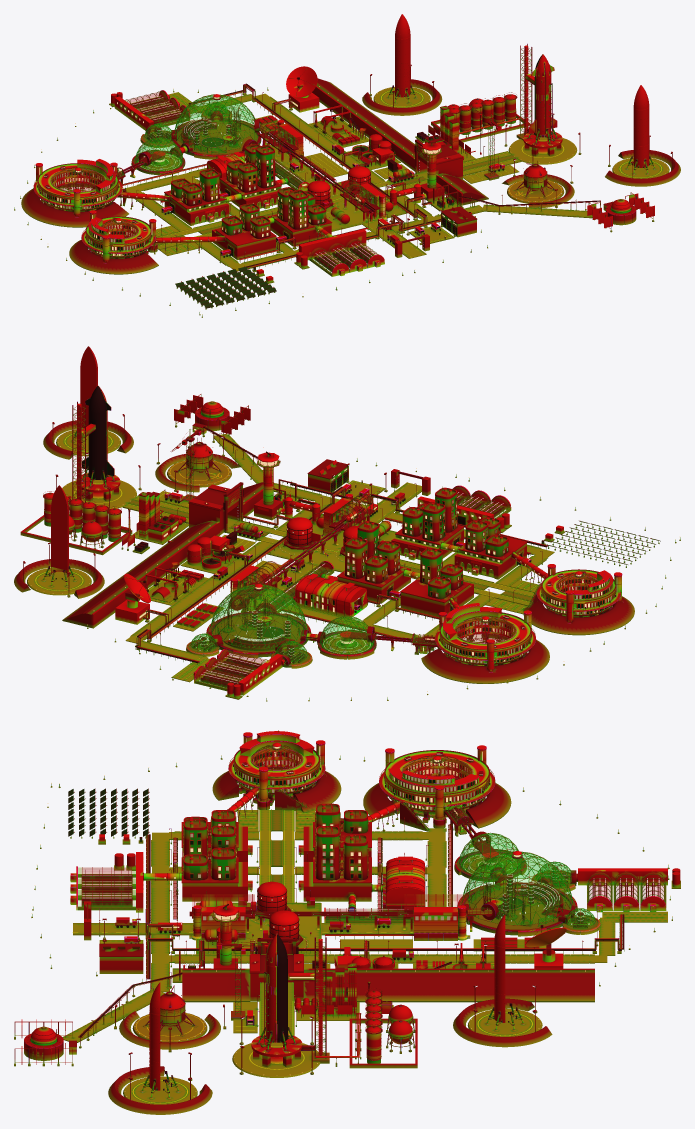
The model's file is mars-outpost-v3.glb.
3 views of the same model, one above another, from view 1: azimuth 30°, elevation 25°; view 2: azimuth 150°, elevation 25°; view 3: azimuth 270°, elevation 25° (orthographic). The views are drawn at different scales.
Parts seen in each view (by area): view 1: static_frame, static_pad, static_paint, static_sinter, static_steel, static_regolith, static_glass, static_solar, static_vegetation, static_anodized, static_foil, static_black (+8 smaller); view 2: static_frame, static_pad, static_paint, static_sinter, static_regolith, static_glass, static_steel, static_anodized, static_vegetation, static_foil, static_shield, static_lit (+9 smaller); view 3: static_pad, static_frame, static_paint, static_regolith, static_sinter, static_glass, static_steel, static_vegetation, static_anodized, static_foil, static_solar, static_fabric (+9 smaller).
Boxes of the visible parts, left/top/right/bottom form: static_frame: left=14, top=43, right=672, bottom=316; static_pad: left=14, top=87, right=669, bottom=317; static_paint: left=33, top=45, right=654, bottom=282; static_sinter: left=41, top=86, right=636, bottom=263; static_steel: left=37, top=14, right=654, bottom=268; static_regolith: left=21, top=78, right=680, bottom=274; static_glass: left=35, top=91, right=379, bottom=273; static_solar: left=175, top=266, right=276, bottom=308; static_vegetation: left=72, top=97, right=372, bottom=270; static_anodized: left=37, top=73, right=653, bottom=270; static_foil: left=123, top=84, right=516, bottom=267; static_black: left=161, top=112, right=504, bottom=257; static_frame: left=23, top=386, right=680, bottom=700; static_pad: left=27, top=413, right=680, bottom=701; static_paint: left=68, top=395, right=622, bottom=695; static_sinter: left=20, top=407, right=623, bottom=672; static_regolith: left=14, top=420, right=634, bottom=683; static_glass: left=191, top=487, right=619, bottom=687; static_steel: left=43, top=346, right=616, bottom=697; static_anodized: left=44, top=426, right=616, bottom=662; static_vegetation: left=193, top=496, right=582, bottom=685; static_foil: left=44, top=484, right=547, bottom=662; static_shield: left=82, top=386, right=113, bottom=479; static_lit: left=139, top=429, right=611, bottom=686; static_pad: left=14, top=758, right=680, bottom=1104; static_frame: left=14, top=730, right=672, bottom=1099; static_paint: left=21, top=731, right=667, bottom=1064; static_regolith: left=108, top=767, right=594, bottom=1114; static_sinter: left=24, top=774, right=600, bottom=1068; static_glass: left=78, top=745, right=664, bottom=962; static_steel: left=30, top=751, right=680, bottom=1097; static_vegetation: left=81, top=763, right=660, bottom=926; static_anodized: left=32, top=764, right=624, bottom=1093; static_foil: left=116, top=824, right=622, bottom=1057; static_solar: left=68, top=789, right=148, bottom=836; static_fabric: left=257, top=881, right=298, bottom=942.
Bounding box in the file's own units: 347 × 57.2 × 275.
